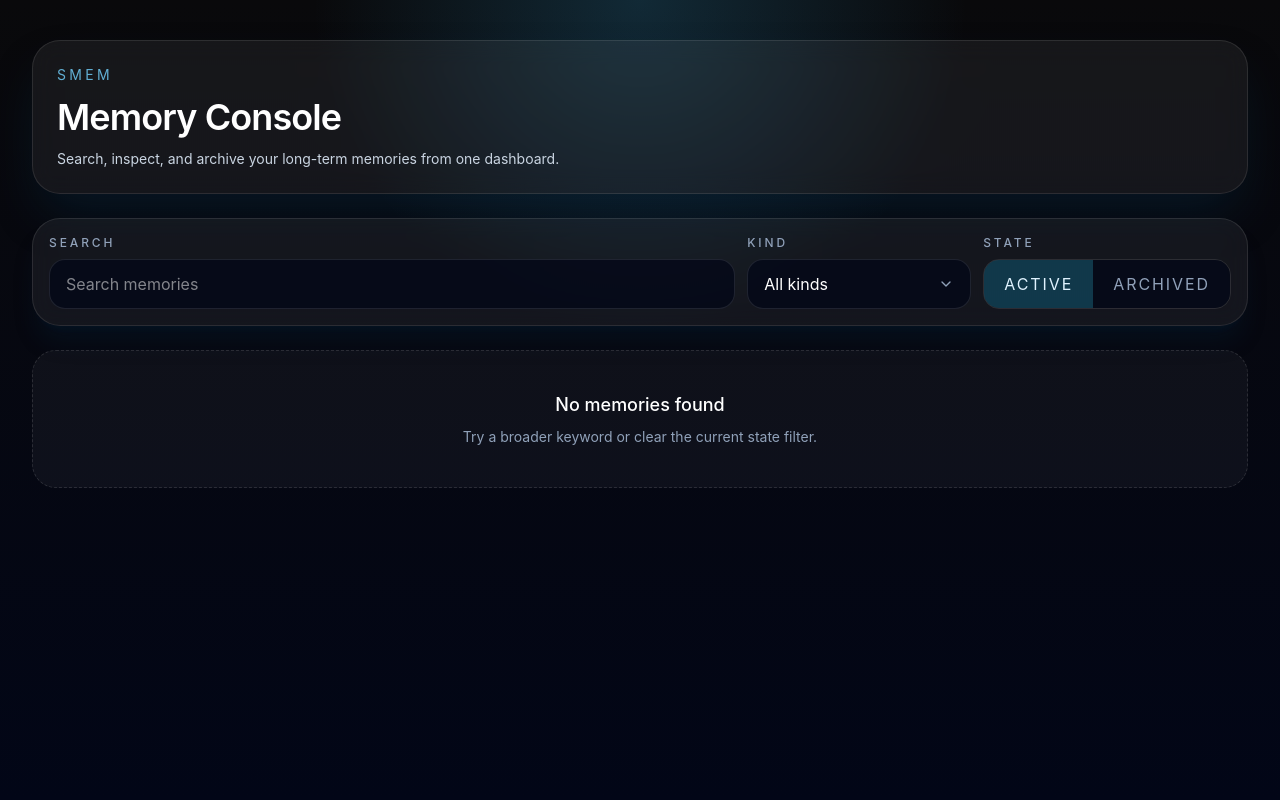
Test: filters the list to archived memories and can mark one active again
What coordinates should you click on to do the following:
click the button "Archived"
I would click on:
 (1162, 284)
Its box is [1093,260,1230,308].
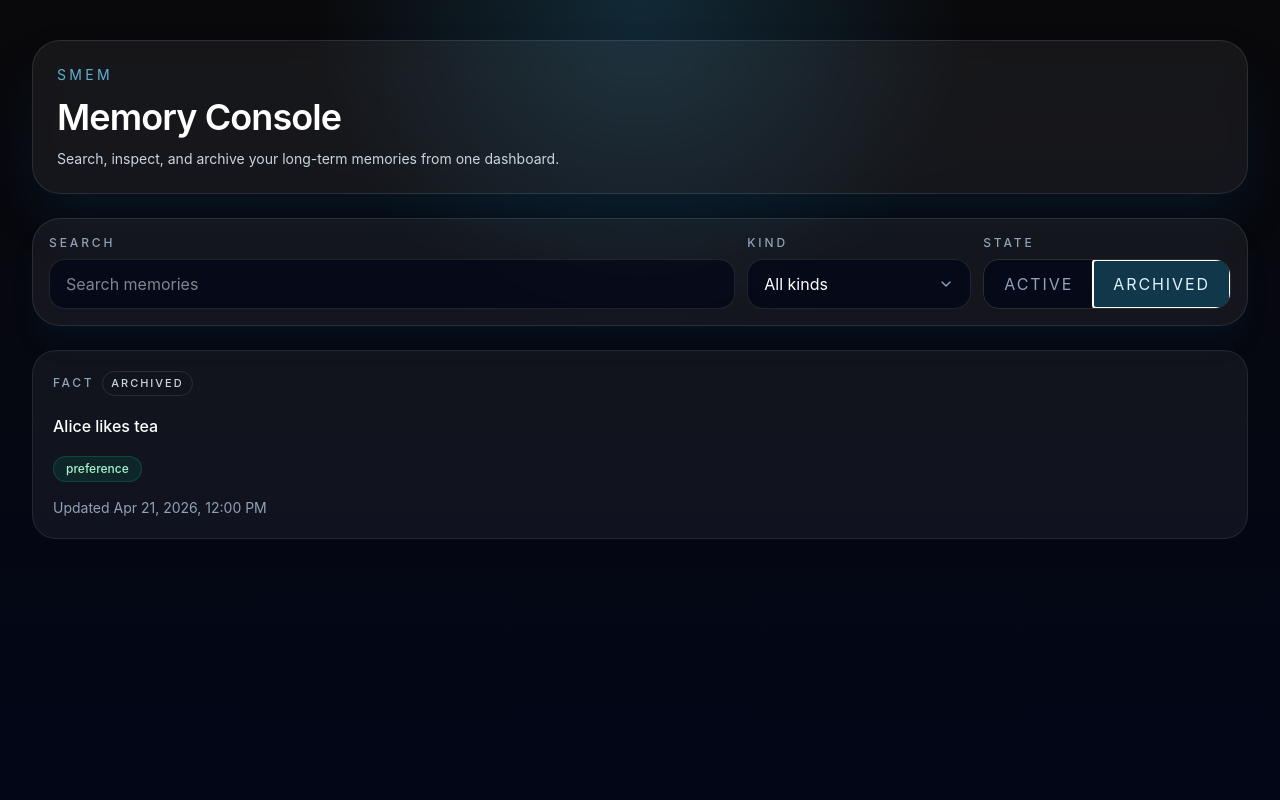
What coordinates should you click on to do the following:
click the button "Alice likes tea"
I would click on:
 (640, 444)
Its box is [32,350,1248,539].
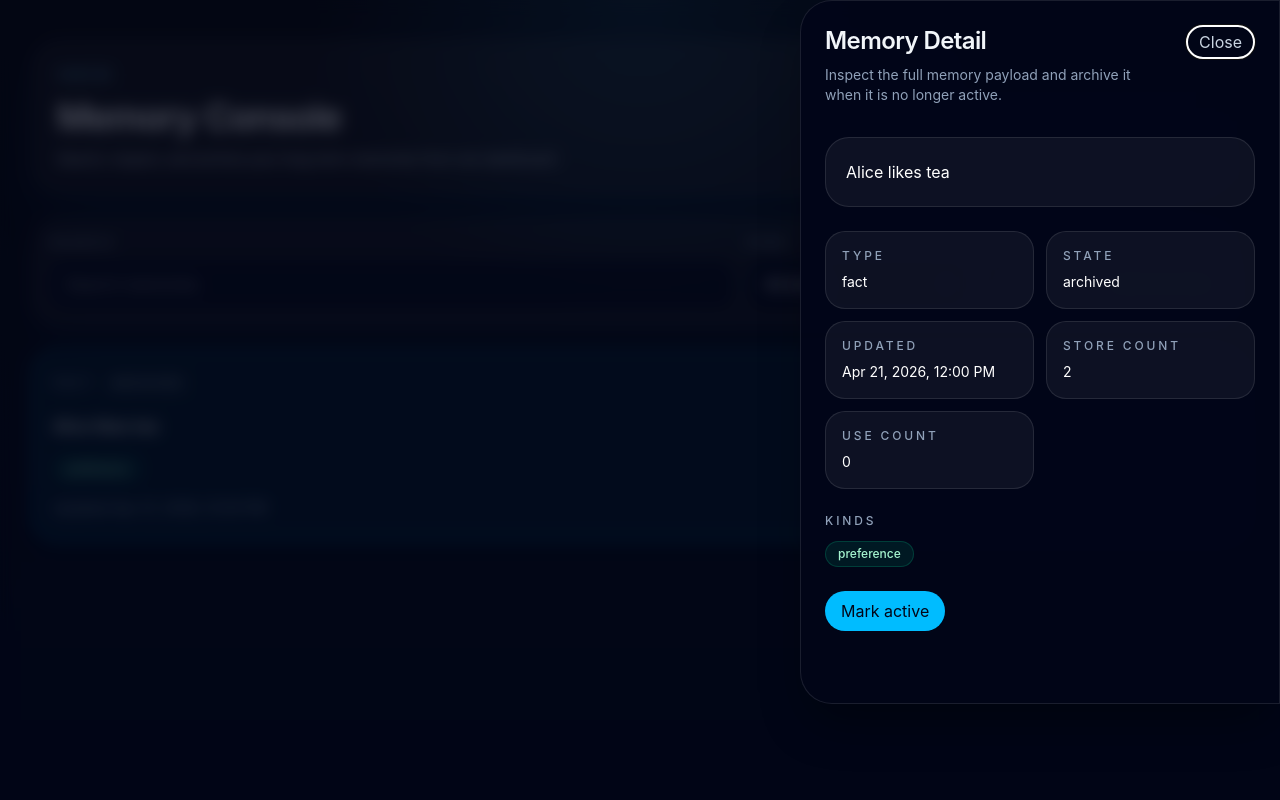
What coordinates should you click on to do the following:
click the button "Mark active"
I would click on:
 (885, 611)
Its box is [825,591,945,631].
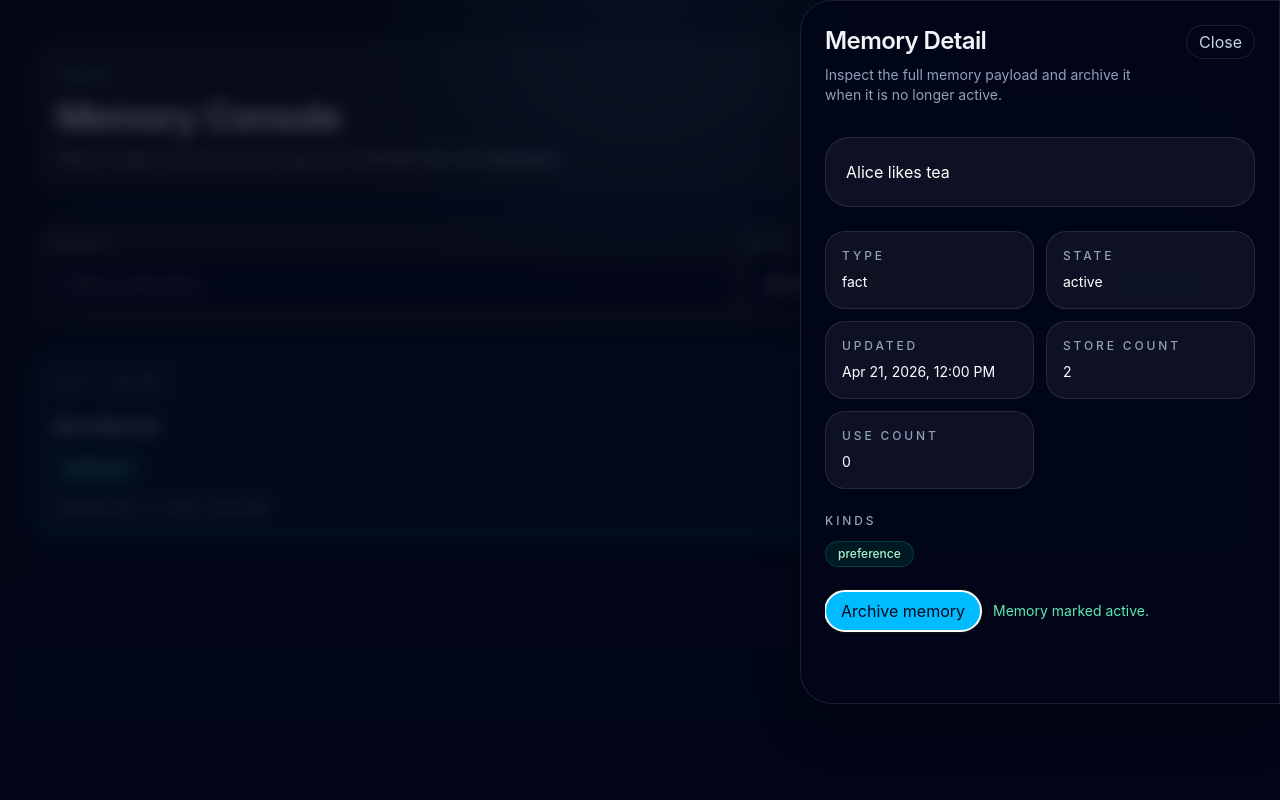
Now the text "Memory marked active." is shown, box [993,601,1149,621]
